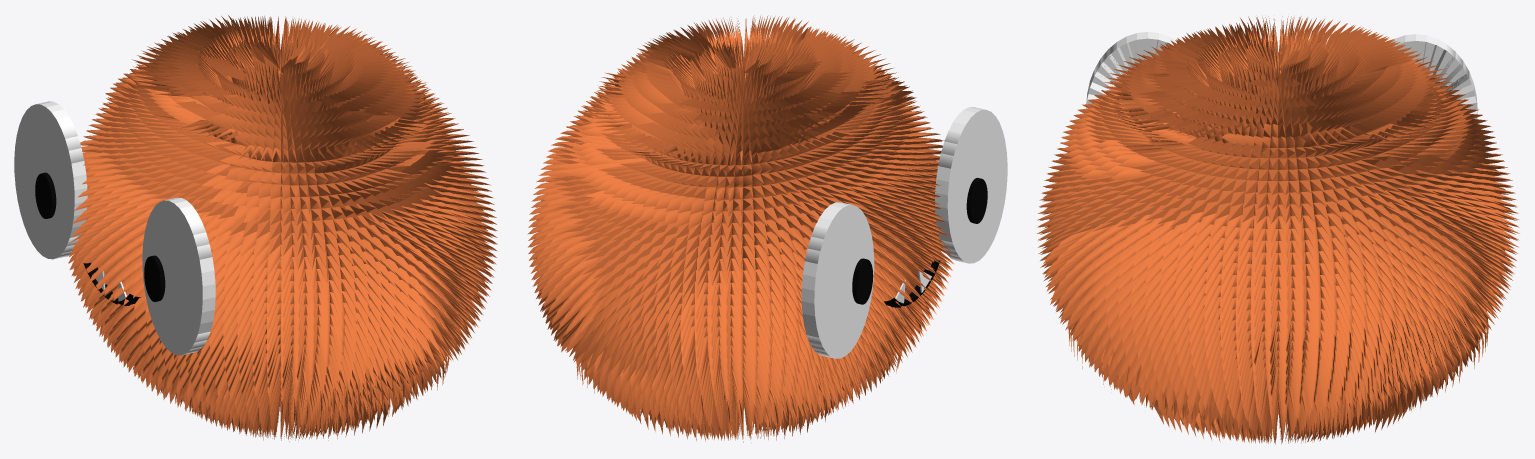
Rendered from elp character.fbx.
3 views of the same model, side by side, from view 1: azimuth 30°, elevation 25°; view 2: azimuth 150°, elevation 25°; view 3: azimuth 270°, elevation 25° (orthographic). The views are drawn at different scales.
Visible parts, largest first — view 1: Sphere, Disc_1, Disc, Disc_2, Disc_3; view 2: Sphere, Disc, Disc_1, Disc_2, Disc_3; view 3: Sphere, Disc, Disc_1.
Part boxes in pixels (left/top/right/bottom): Sphere: left=66, top=15, right=497, bottom=441; Disc_1: left=142, top=197, right=215, bottom=355; Disc: left=14, top=101, right=87, bottom=259; Disc_2: left=35, top=172, right=56, bottom=218; Disc_3: left=144, top=255, right=165, bottom=301; Sphere: left=527, top=15, right=953, bottom=442; Disc: left=801, top=202, right=874, bottom=358; Disc_1: left=935, top=107, right=1007, bottom=263; Disc_2: left=852, top=258, right=873, bottom=304; Disc_3: left=966, top=178, right=987, bottom=223; Sphere: left=1037, top=16, right=1519, bottom=444; Disc: left=1390, top=34, right=1477, bottom=119; Disc_1: left=1086, top=32, right=1177, bottom=108.
Bounding box in the file's own units: 514 × 502 × 580.
